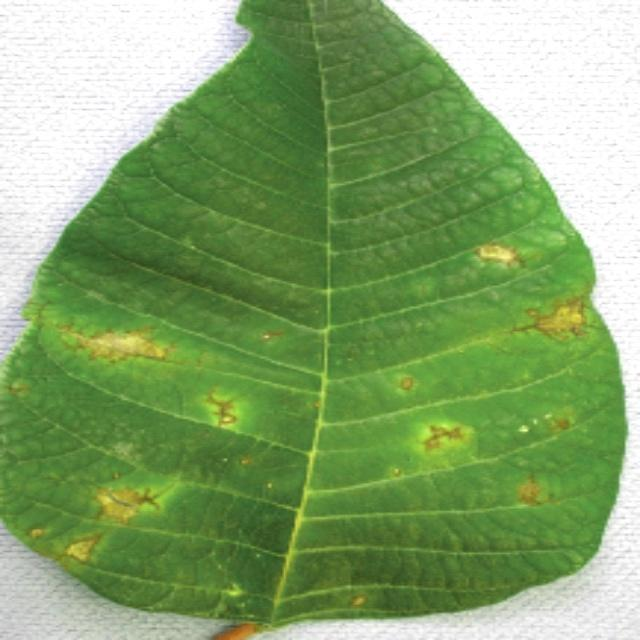leaf_spot: (56, 244, 600, 597)
